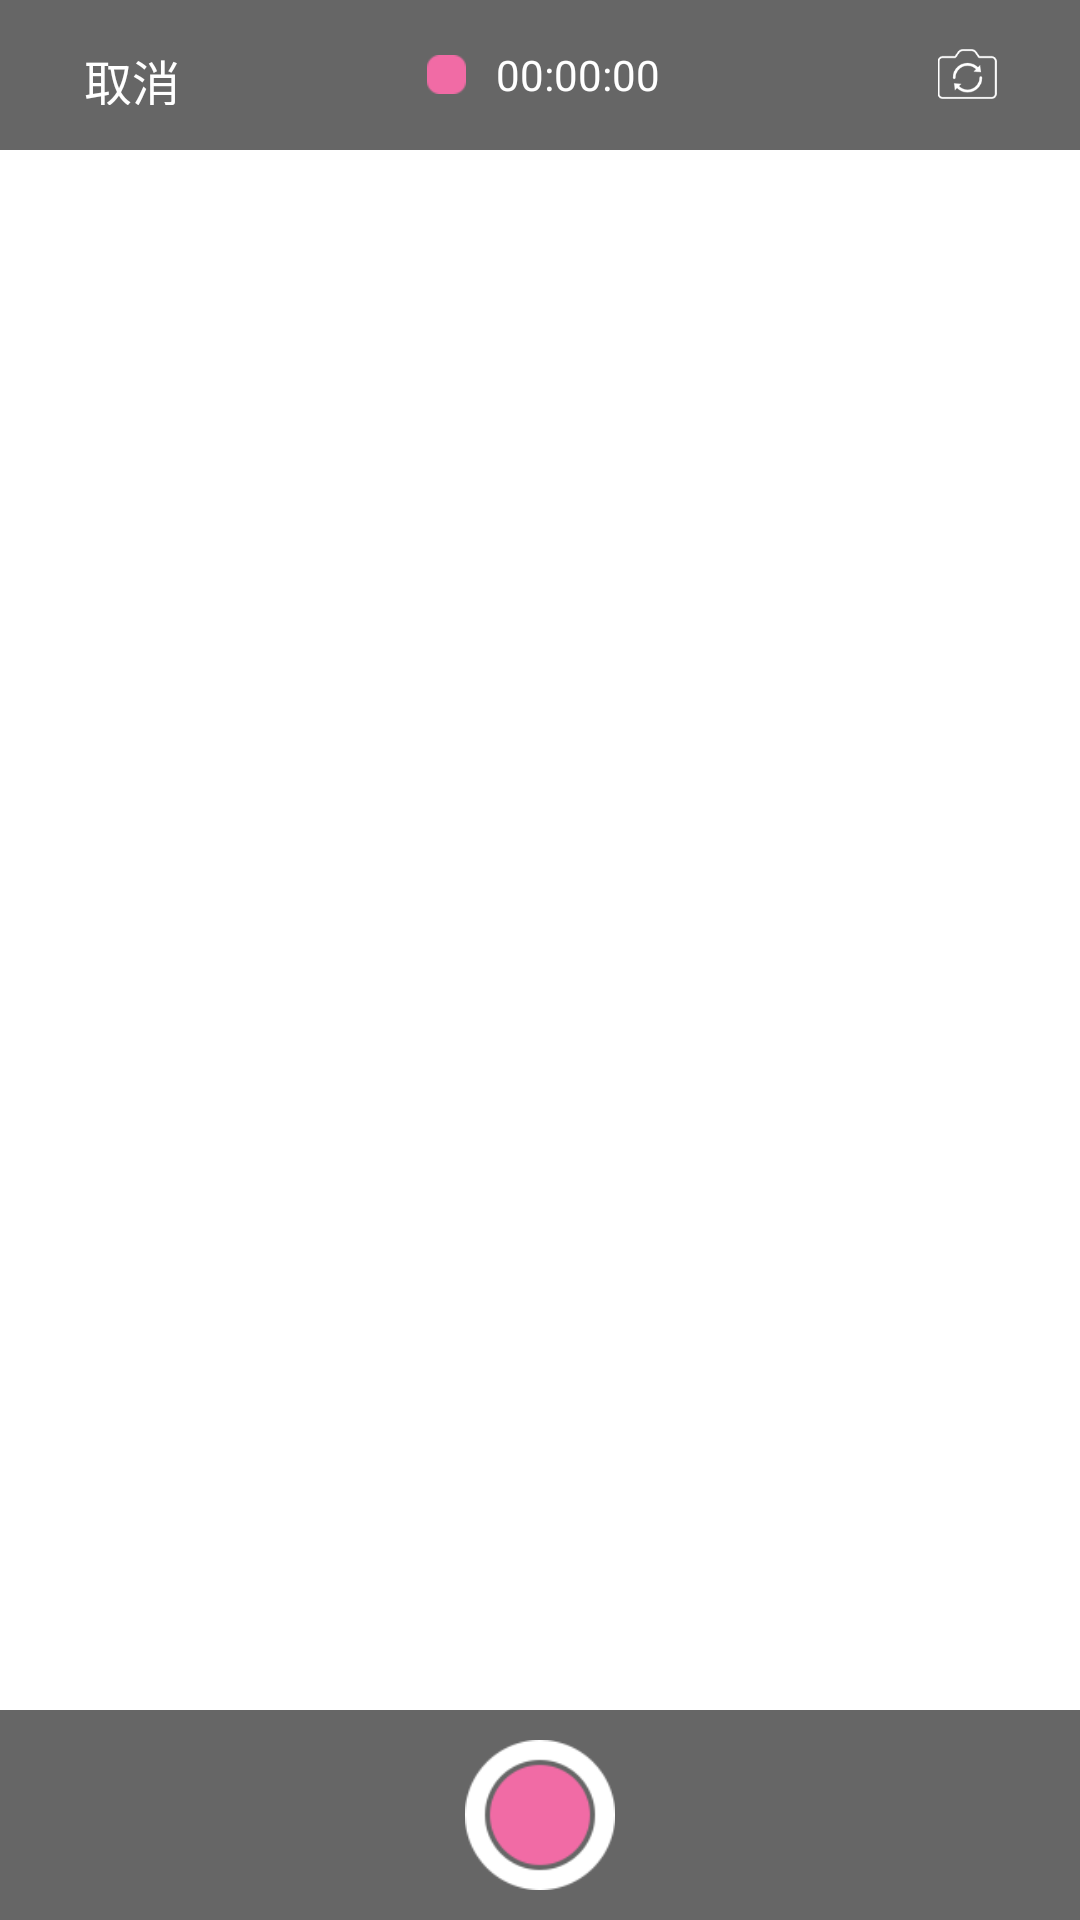

Icon bounding boxes for this 1080*1920 phone screenshot, format (x1, y1, x2, y2):
switchphoto: (938, 49, 997, 99)
